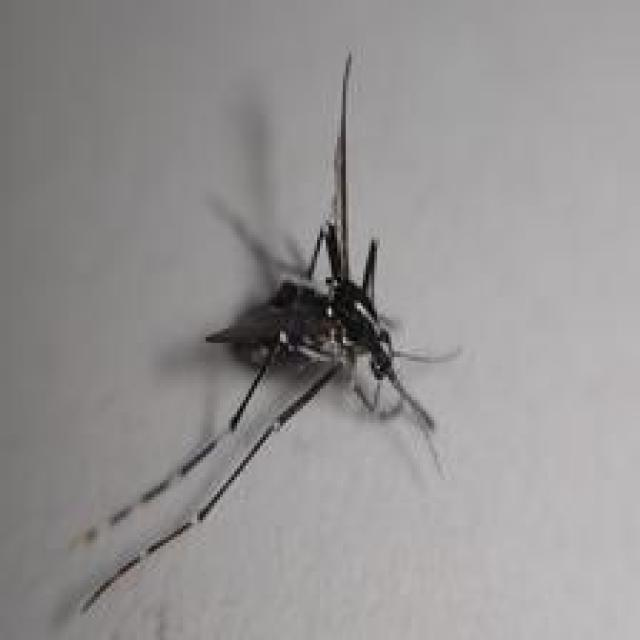Aedes albopictus: (70, 49, 461, 614)
